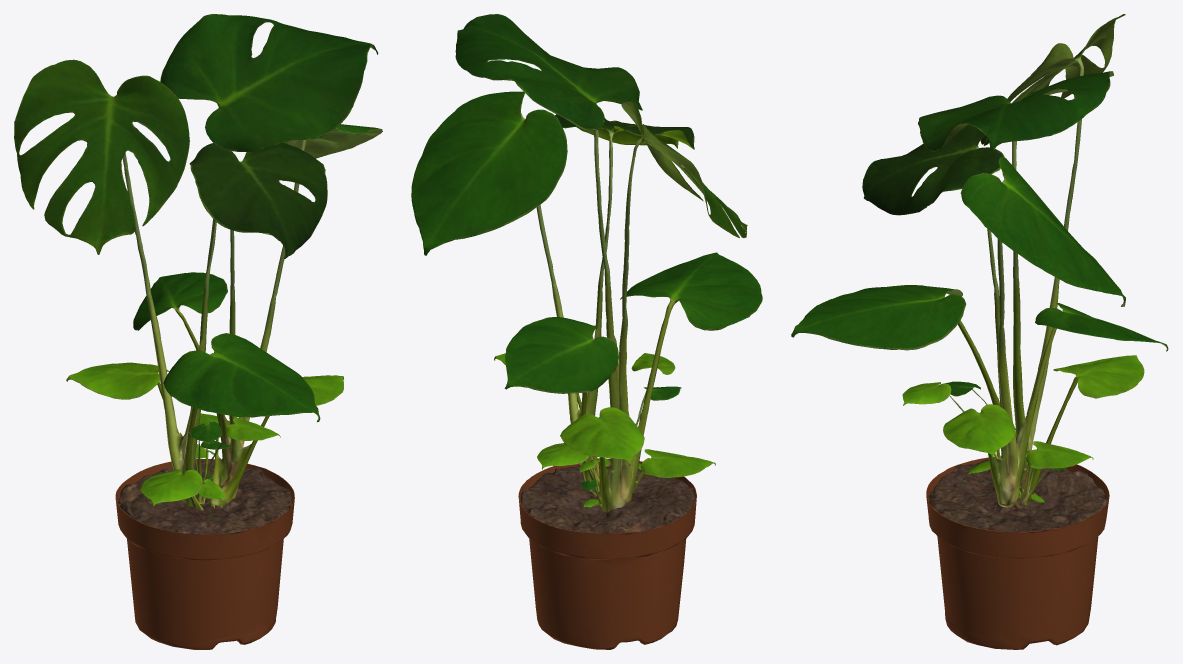
File: planta.glb
3 views of the same model, side by side, from view 1: azimuth 30°, elevation 25°; view 2: azimuth 150°, elevation 25°; view 3: azimuth 270°, elevation 25° (orthographic). The views are drawn at different scales.
Visible parts, largest first — view 1: 50515493-MONSTERA DELICIOSA001_1; view 2: 50515493-MONSTERA DELICIOSA001_1; view 3: 50515493-MONSTERA DELICIOSA001_1.
Boxes of the visible parts, x1,y1,x2,y2 form: 50515493-MONSTERA DELICIOSA001_1: (14, 14, 382, 649); 50515493-MONSTERA DELICIOSA001_1: (411, 14, 762, 649); 50515493-MONSTERA DELICIOSA001_1: (791, 14, 1168, 649).
Bounding box in the file's own units: 0.2554 × 0.4172 × 0.248.
Materials: 1 (1 with a texture image).
